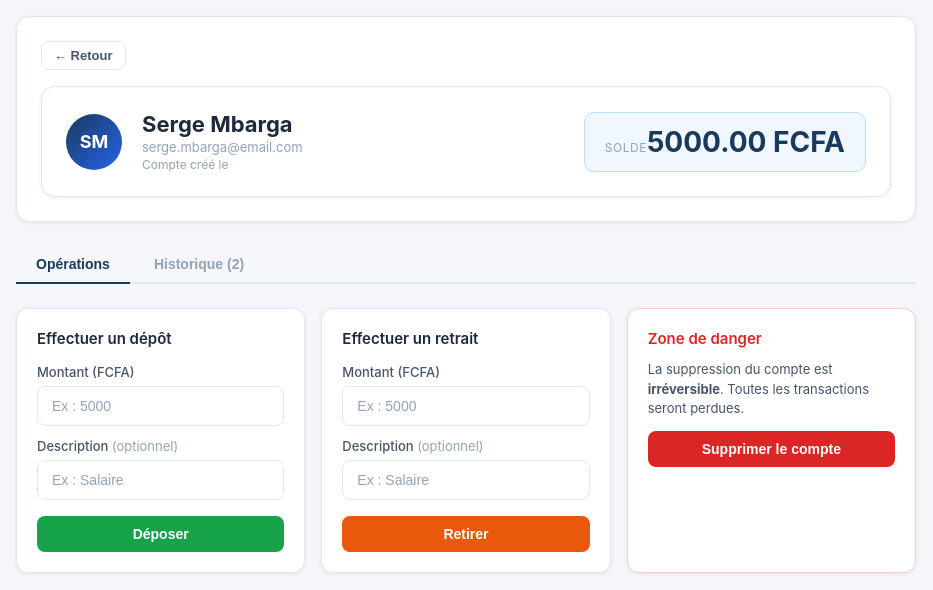
AccountDetail — onglets › affiche l'historique après clic sur l'onglet Historique
The image size is (933, 590).
Click the button "Historique (2)" at (199, 265), box [134, 246, 264, 284]
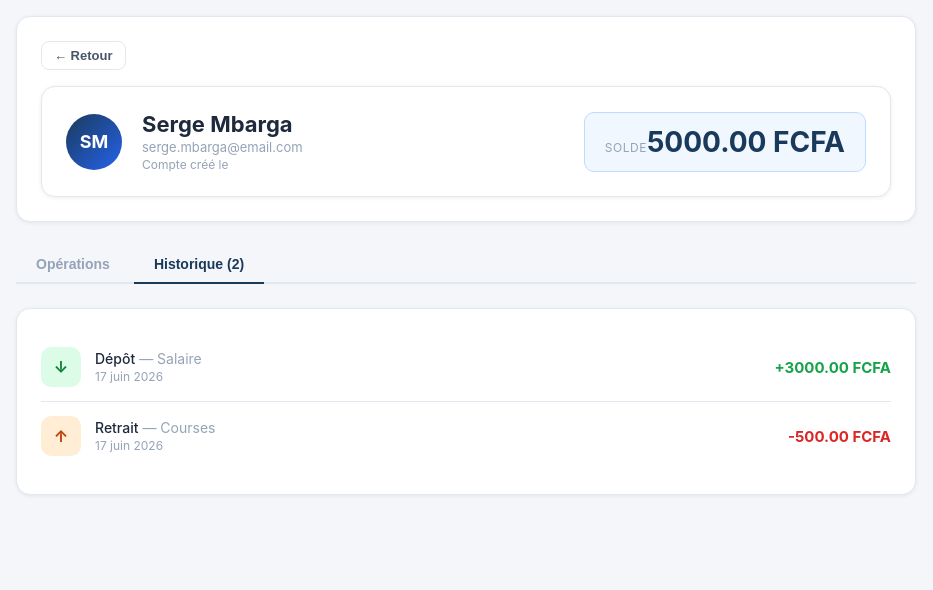
Expected: the text "— Salaire" is shown, [135, 350, 202, 367]
